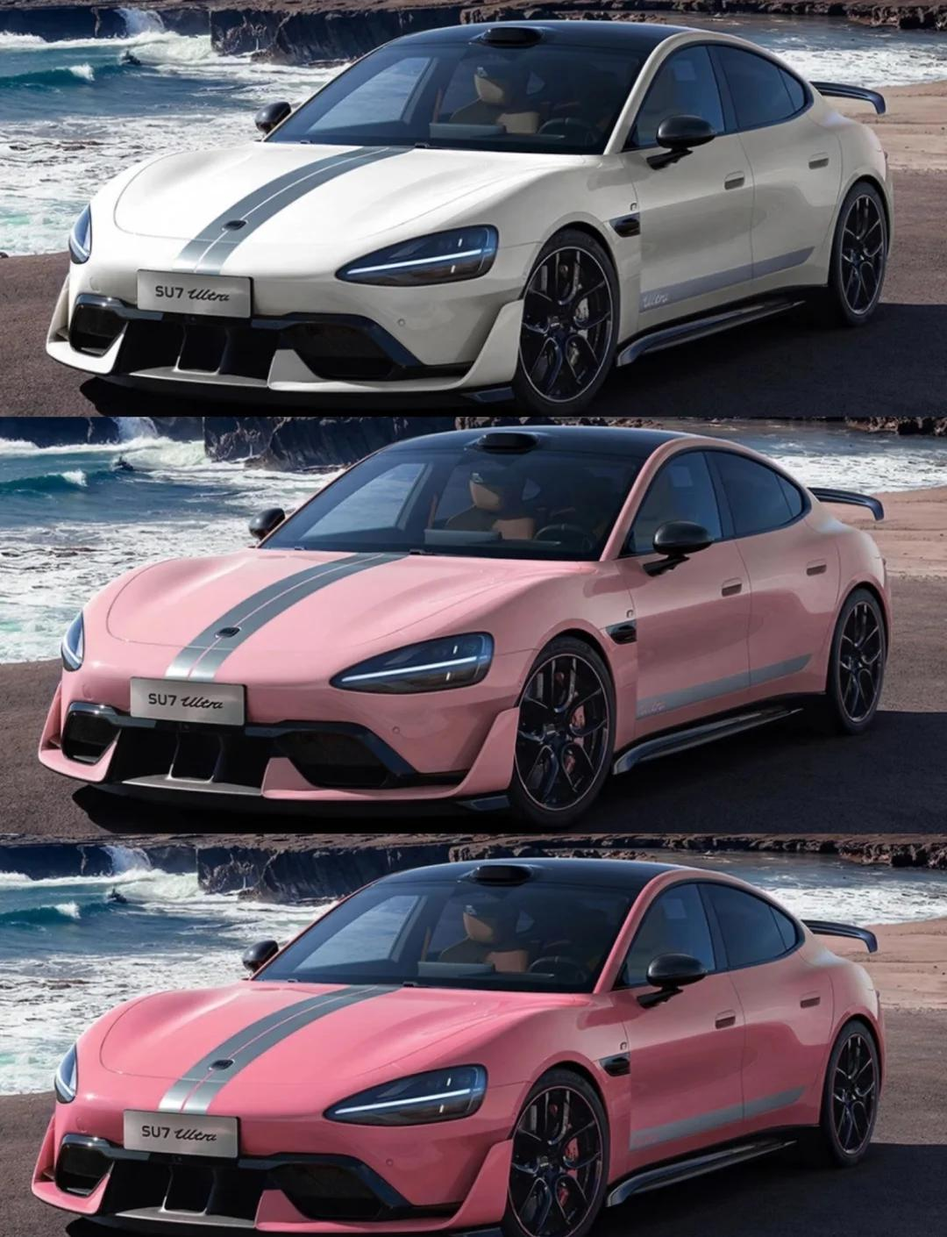su7: (46, 23, 892, 412), (44, 440, 899, 822), (33, 865, 885, 1237)
